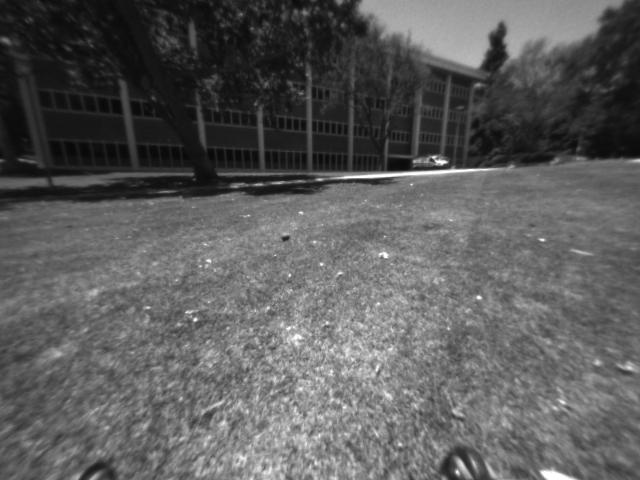dogtoy: (276, 227, 296, 245)
